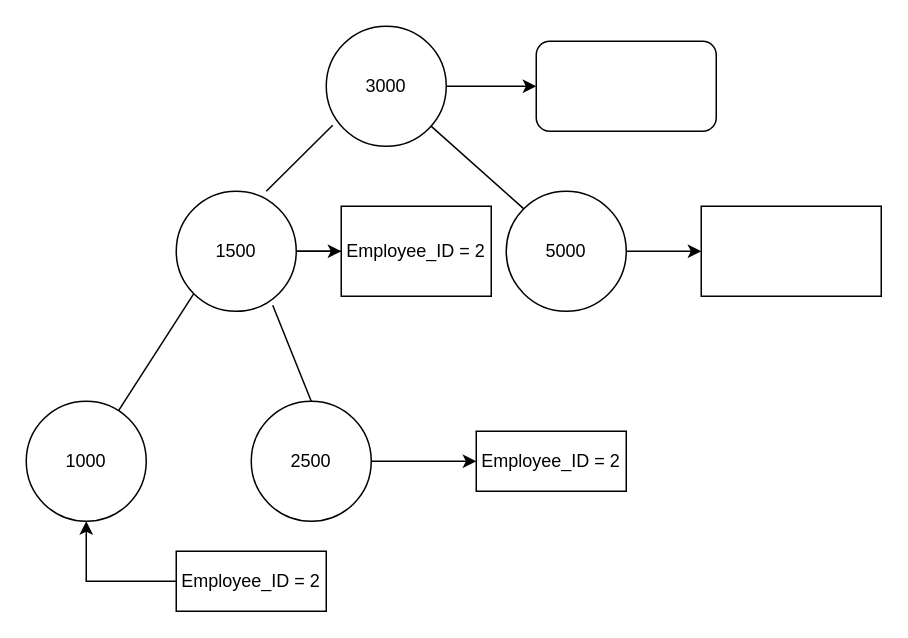
Image size: 908x638. Some labels were removed from this diagram. The shapes that lost their labels are listed below. From the top down, each one's centre as x and y in pixels, then its label:
(625,85): Employee_ID = 4
(790,250): Employee_ID = 3
